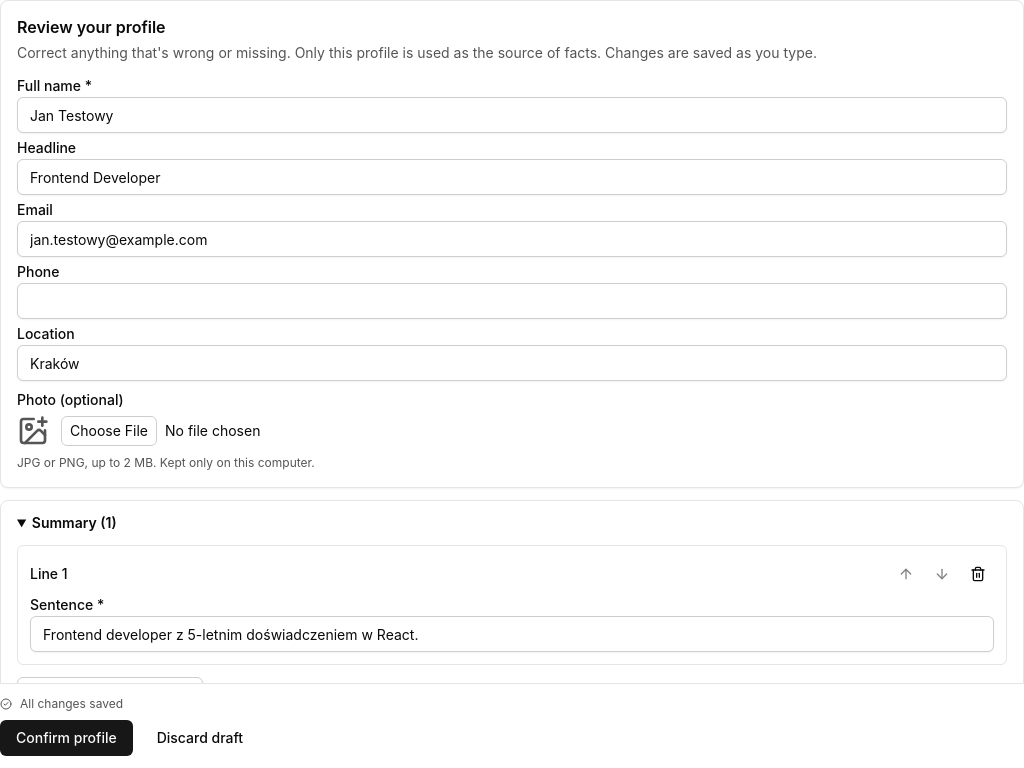
ProfileEditor › moves focus into the replace dialog and closes it with Escape
Click the button "Confirm profile": (66, 738) [0, 720, 133, 756]
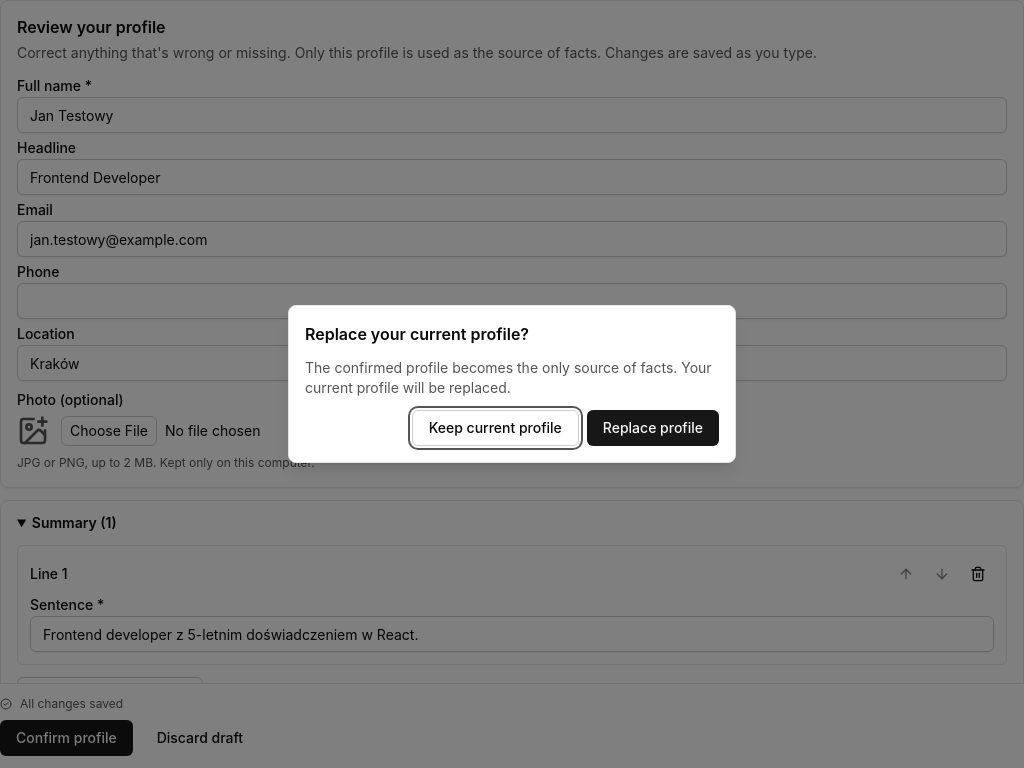
Press Escape
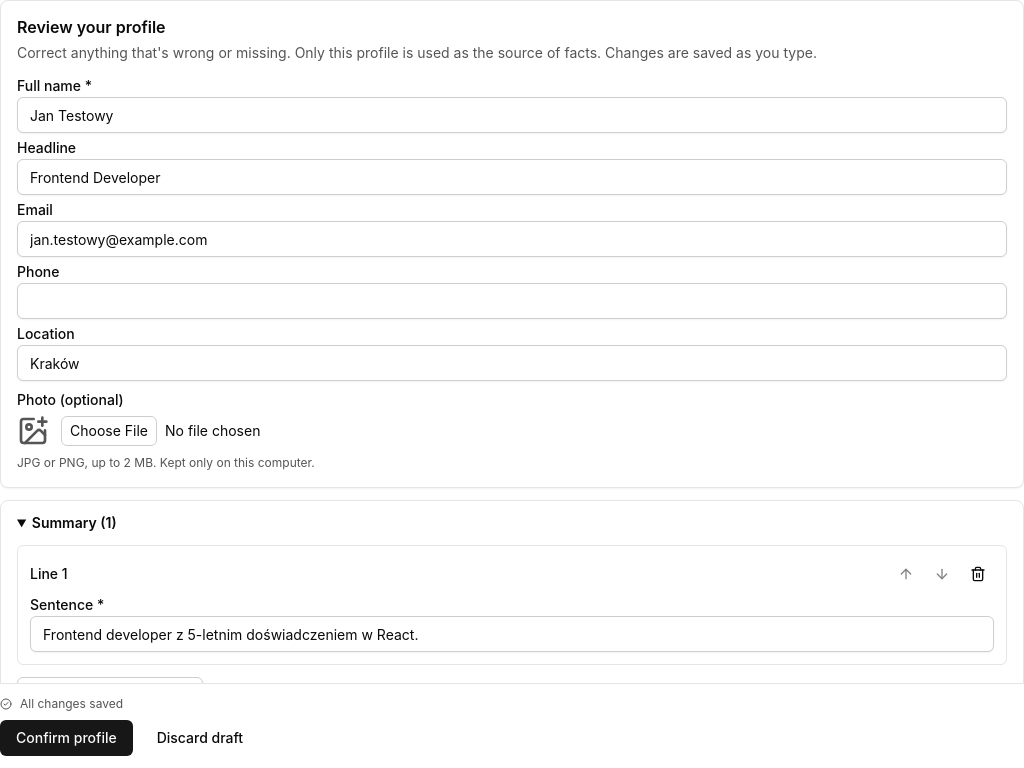
Expected: the dialog is gone
